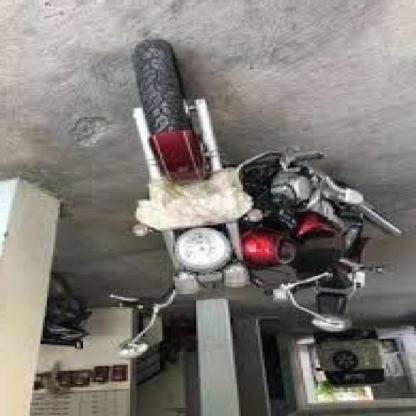bike: (120, 39, 406, 331)
